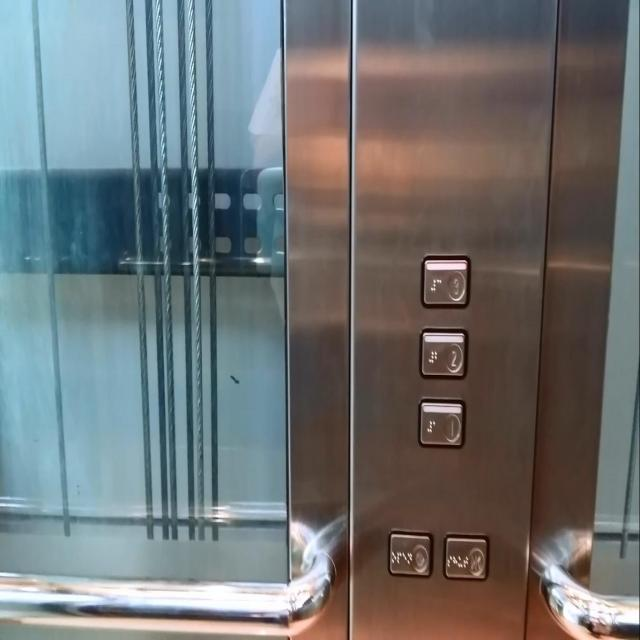1: (418, 394, 467, 450)
2: (418, 324, 469, 378)
3: (420, 251, 471, 308)
close: (442, 529, 489, 581)
open: (386, 525, 434, 577)
